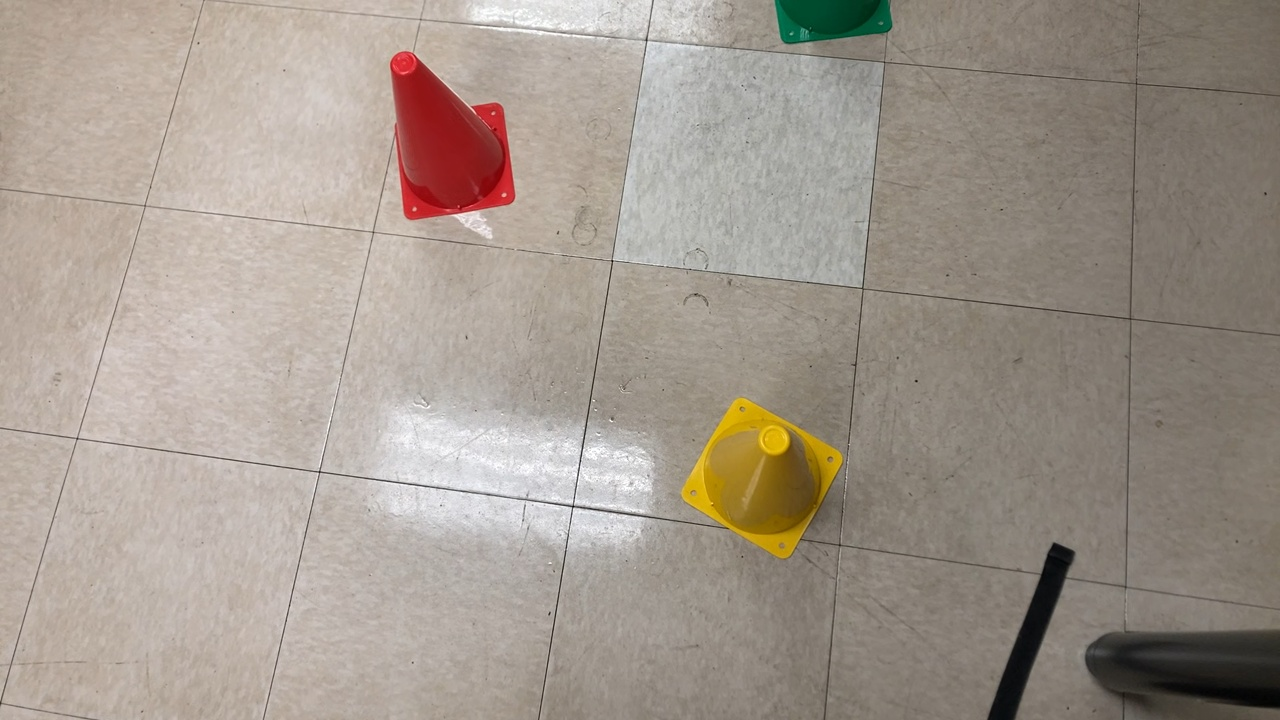red_cone: (386, 46, 519, 222)
yellow_cone: (677, 390, 853, 565)
